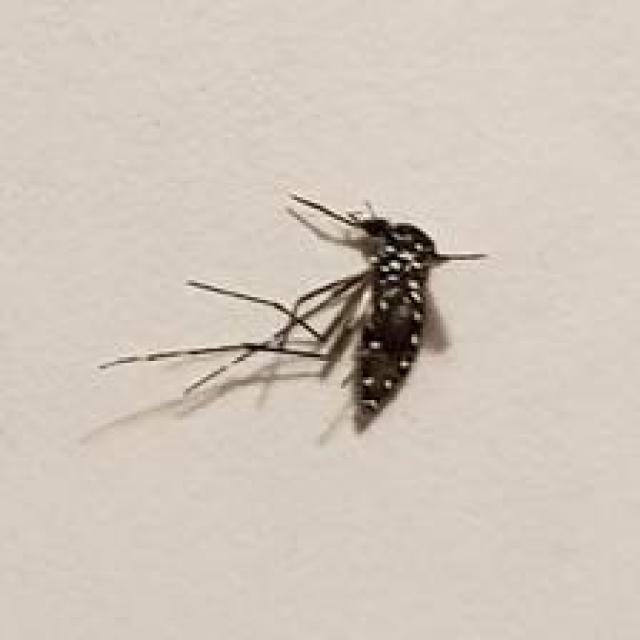Aedes albopictus: (94, 188, 489, 446)
